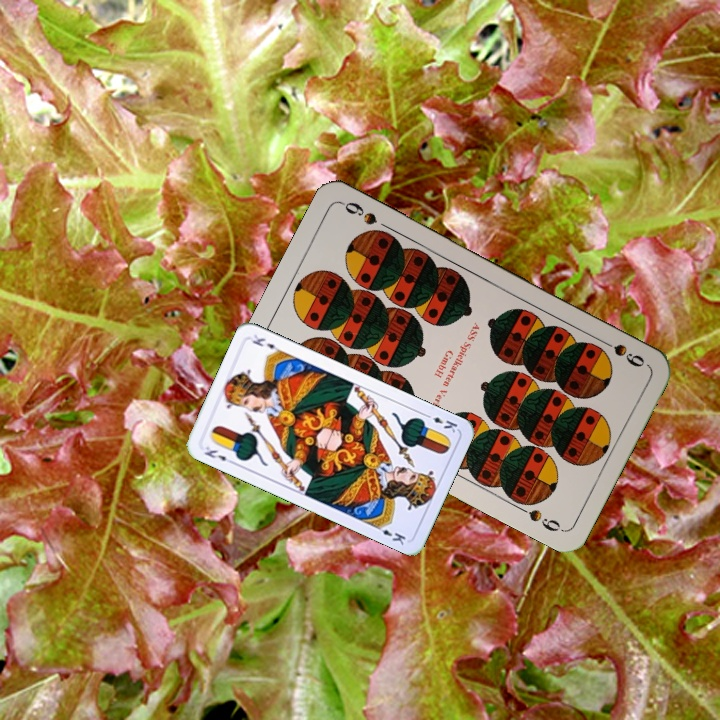EK: (421, 410, 460, 435), (200, 442, 237, 467)
S9: (594, 334, 647, 370)
